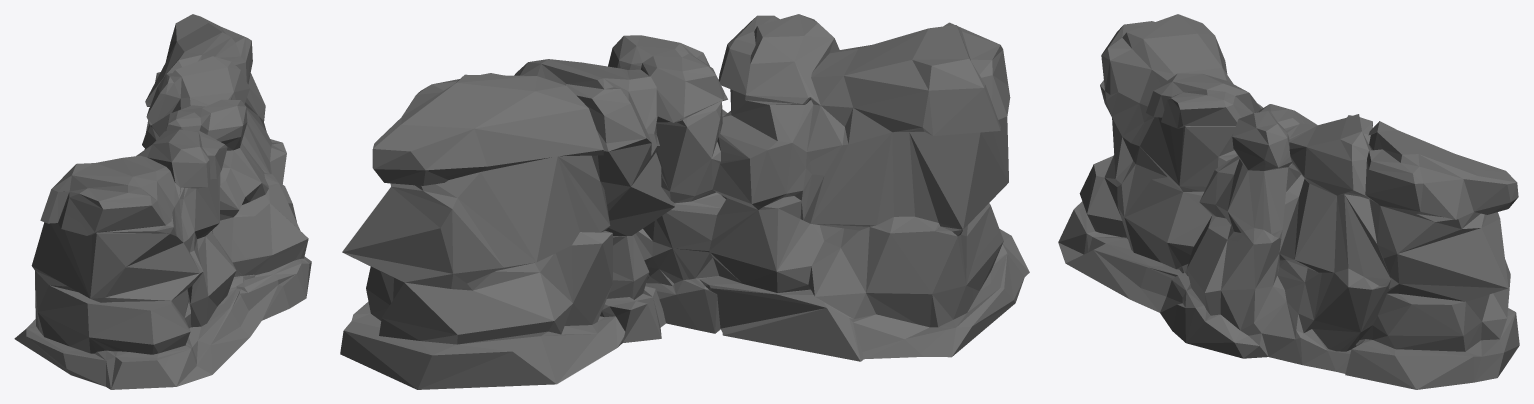
Rendered from rock__rockform_corner_soft_medium.glb.
3 renders of one model, left to right at view 1: azimuth 30°, elevation 25°; view 2: azimuth 150°, elevation 25°; view 3: azimuth 270°, elevation 25°, orthographic. The views are drawn at different scales.
Parts seen in each view (by area): view 1: rockform.corner.soft.medium; view 2: rockform.corner.soft.medium; view 3: rockform.corner.soft.medium.
Boxes of the visible parts, left/top/right/bottom form: rockform.corner.soft.medium: left=14, top=14, right=311, bottom=389; rockform.corner.soft.medium: left=340, top=14, right=1029, bottom=389; rockform.corner.soft.medium: left=1058, top=14, right=1519, bottom=389.
Bounding box in the file's own units: 30.36 × 15.37 × 31.39.
Materials: 1 (1 with a texture image).
